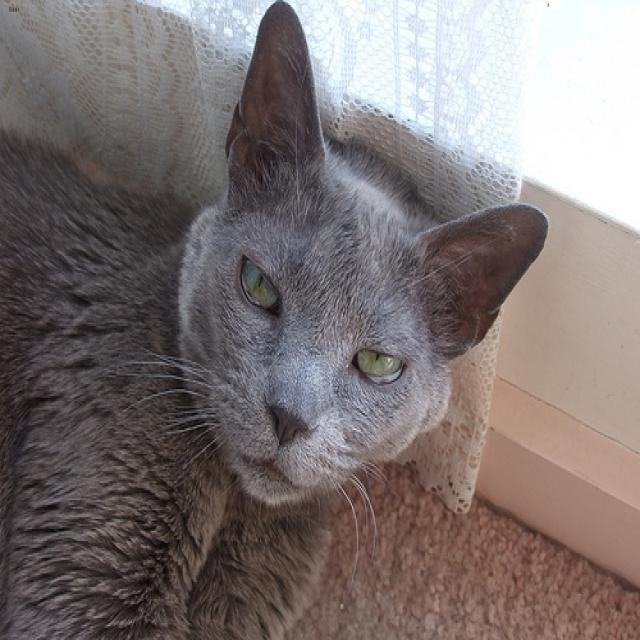Russian_Blue: (177, 0, 552, 517)
